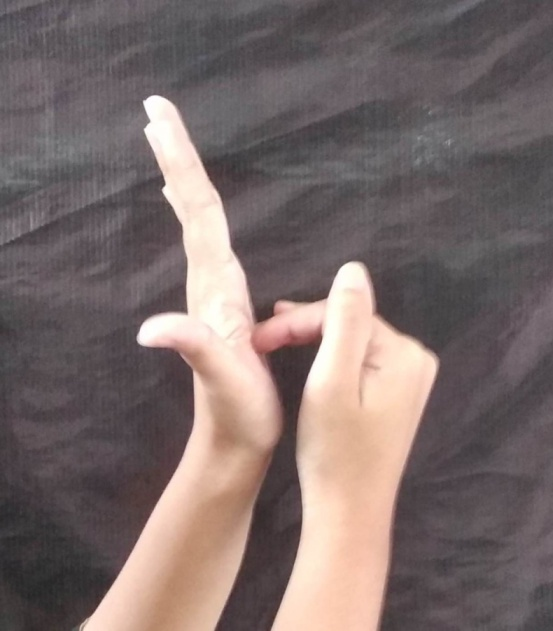ga: (123, 91, 456, 550)
